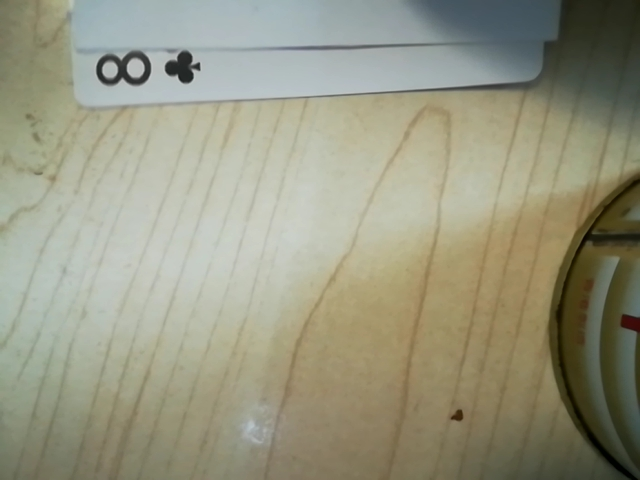mh 8: (80, 39, 203, 102)
